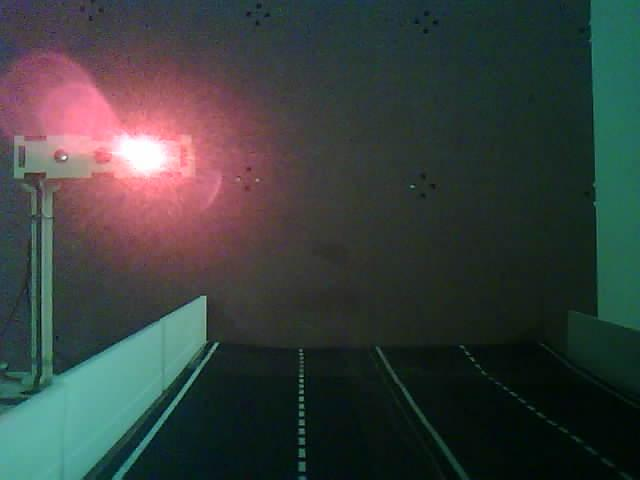red: (2, 37, 237, 409)
